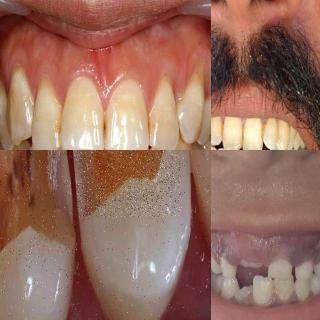Gum Swelling: (59, 63, 151, 111)
cavities: (0, 150, 66, 268), (76, 150, 186, 215)
maligned: (8, 61, 34, 147), (197, 93, 211, 150), (250, 272, 272, 306)
plaque: (272, 275, 296, 301), (295, 278, 309, 303)
stains: (235, 122, 247, 150), (276, 119, 288, 145), (259, 118, 271, 144), (218, 115, 228, 142)
